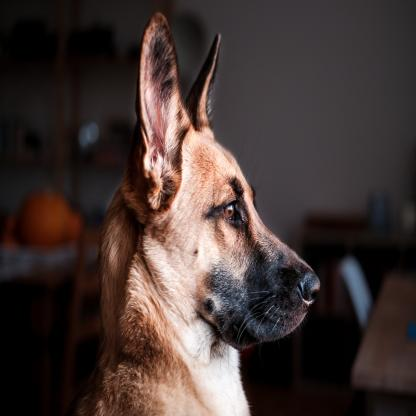dog: (74, 11, 322, 416)
